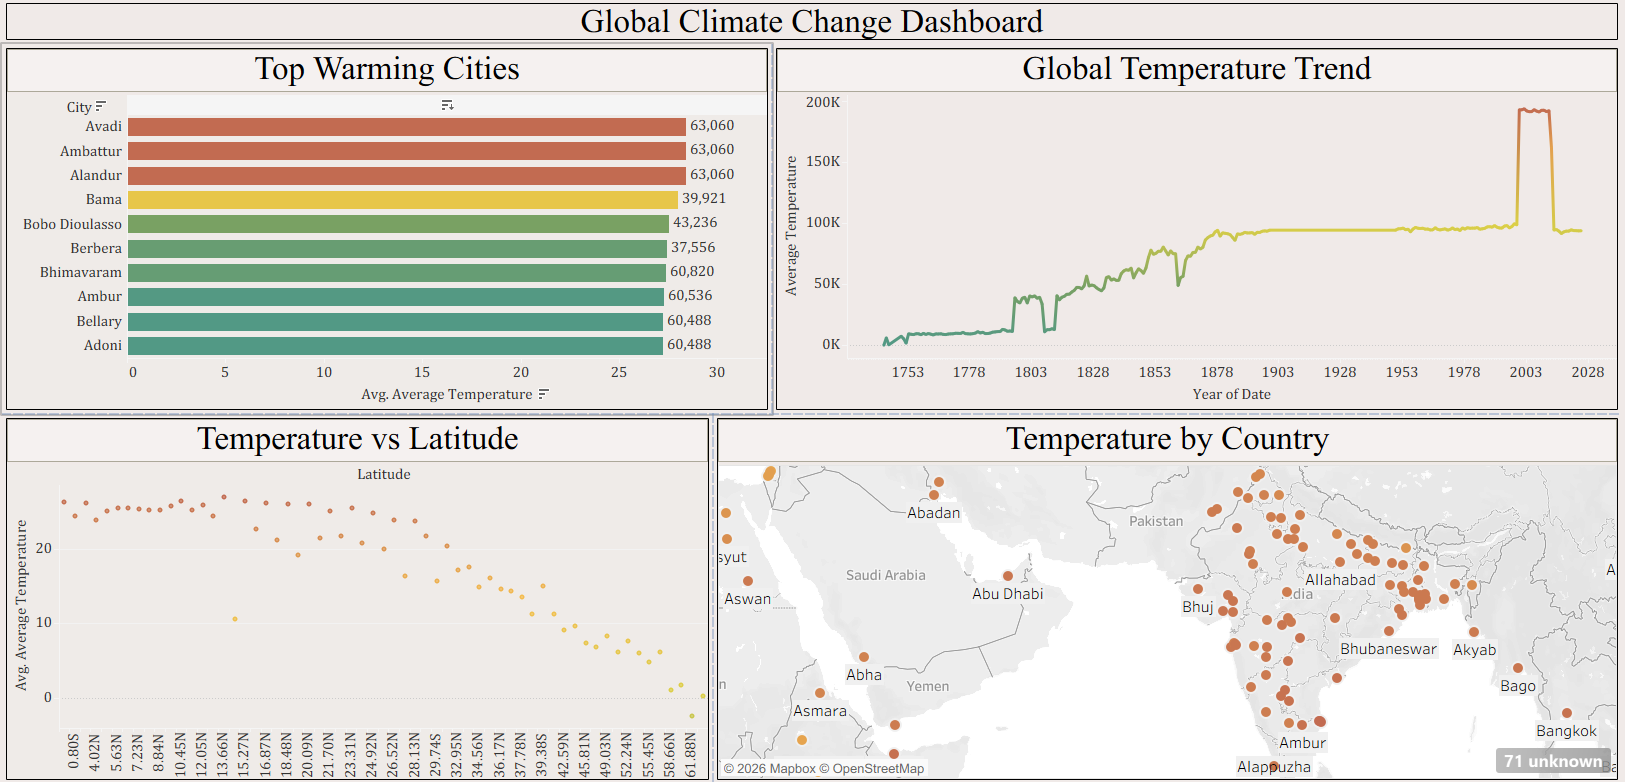

The page's visual inventory and layout, read from the dashboard file:
{"tool":"tableau","page":{"name":"Dashboard 1","canvas":[1000,1000],"units":"permille","ordinal":0},"visuals":[{"type":"title","box":[4.9,10,990.2,56.2]},{"type":"worksheet","title":"Cities Experiencing Highest Temperatures","mark":"Automatic","rows":["City"],"cols":["AverageTemperature"],"box":[4.9,66.2,470.7,461.9]},{"type":"worksheet","title":"Long Term Warming Trend","mark":"Automatic","rows":["AverageTemperature"],"cols":["Date"],"box":[475.6,66.2,519.6,461.9]},{"type":"worksheet","title":"Relationship Between Geography and Climate","mark":"Shape","rows":["AverageTemperature"],"cols":["Latitude"],"box":[4.9,528.1,434.4,461.9]},{"type":"worksheet","title":"RegionsThat  are Hotter or Colder","mark":"Automatic","box":[439.2,528.1,555.9,461.9]}]}

Visuals, with their boxes on the dashboard's canvas, which has no fixed pixel size, in thousandths of its width and height (x1, y1, x2, y2). These are canvas units, not pixel positions in the 1625x782 screenshot, which may show the page scaled, cropped or inside an application window:
title: l=5, t=10, r=995, b=66
"Cities Experiencing Highest Temperatures" worksheet: l=5, t=66, r=476, b=528
"Long Term Warming Trend" worksheet: l=476, t=66, r=995, b=528
"Relationship Between Geography and Climate" worksheet (Shape marks): l=5, t=528, r=439, b=990
"RegionsThat  are Hotter or Colder" worksheet: l=439, t=528, r=995, b=990
